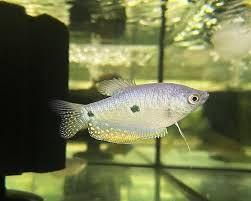Gourami: (51, 78, 210, 169)
